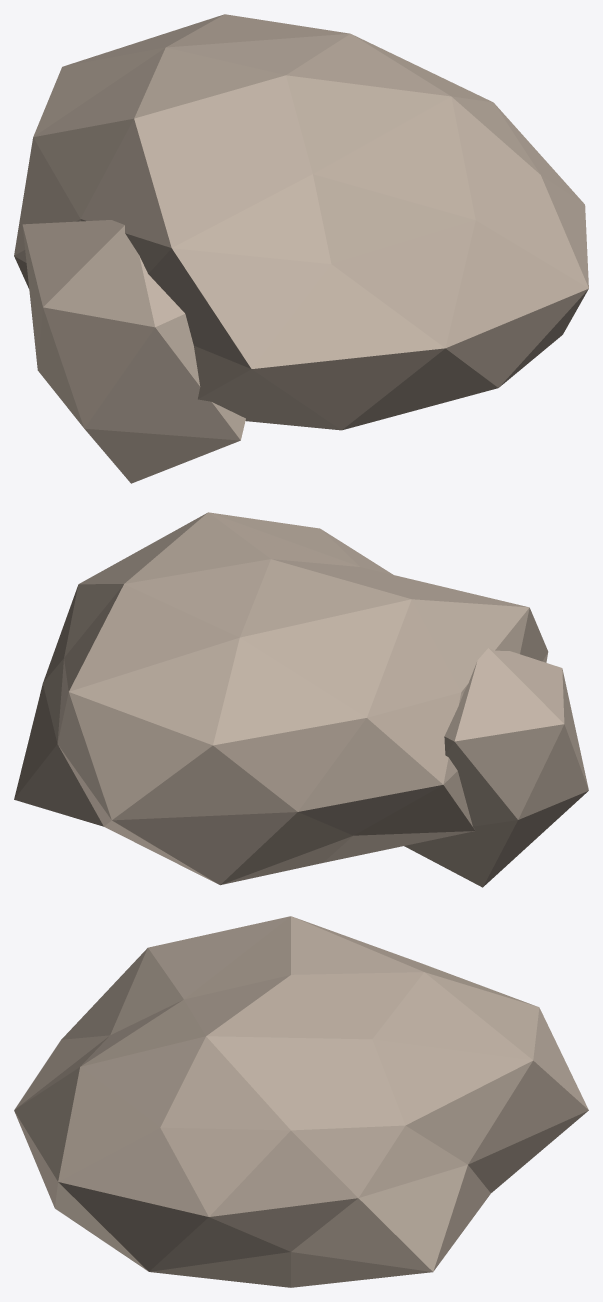
The model's file is Rock_C.fbx.
3 views of the same model, one above another, from view 1: azimuth 30°, elevation 25°; view 2: azimuth 150°, elevation 25°; view 3: azimuth 270°, elevation 25° (orthographic). The views are drawn at different scales.
Parts seen in each view (by area): view 1: Rock_C_Mesh; view 2: Rock_C_Mesh; view 3: Rock_C_Mesh.
Boxes of the visible parts, x1,y1,x2,y2 form: Rock_C_Mesh: [14, 14, 588, 483]; Rock_C_Mesh: [14, 512, 588, 887]; Rock_C_Mesh: [14, 916, 588, 1287].
Size of the model in its own units: 3.25 by 3.51 by 1.95.
